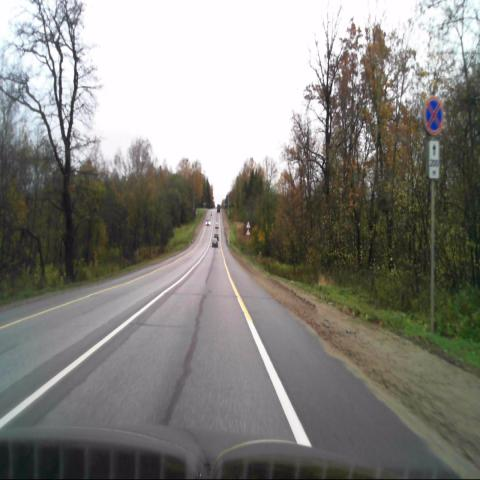8_2_2: (428, 142, 440, 179)
